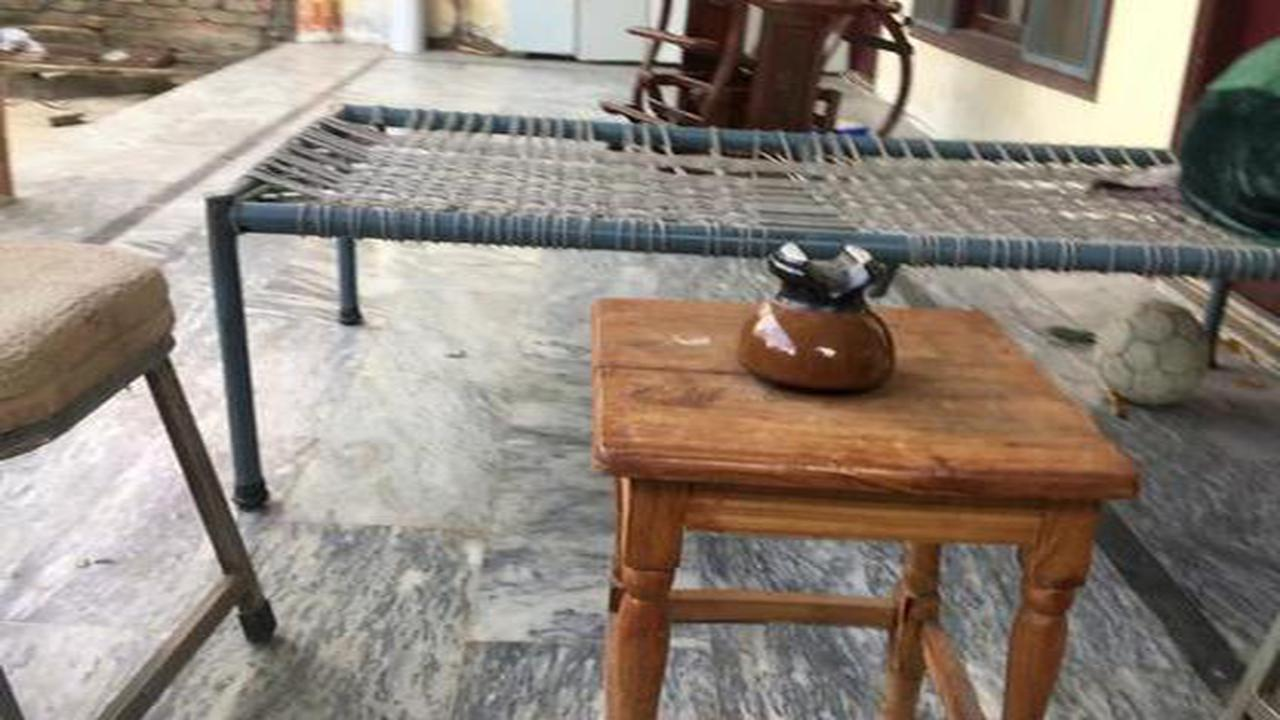insulator_pin: (730, 213, 930, 406)
